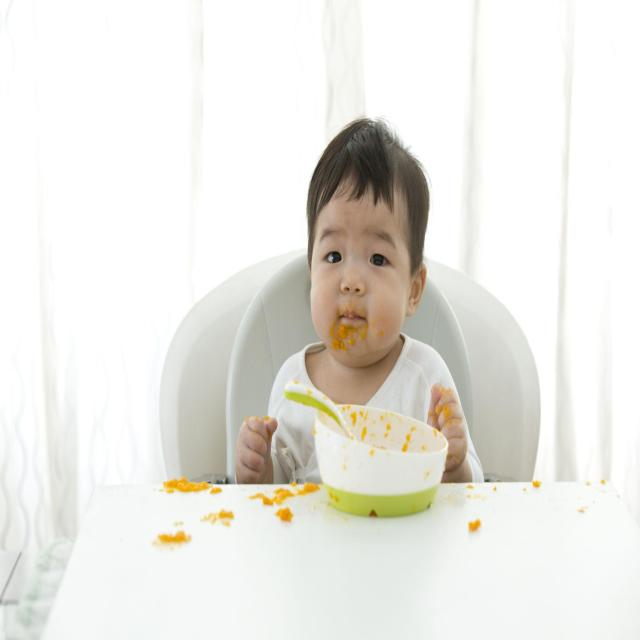child: (228, 109, 484, 516)
